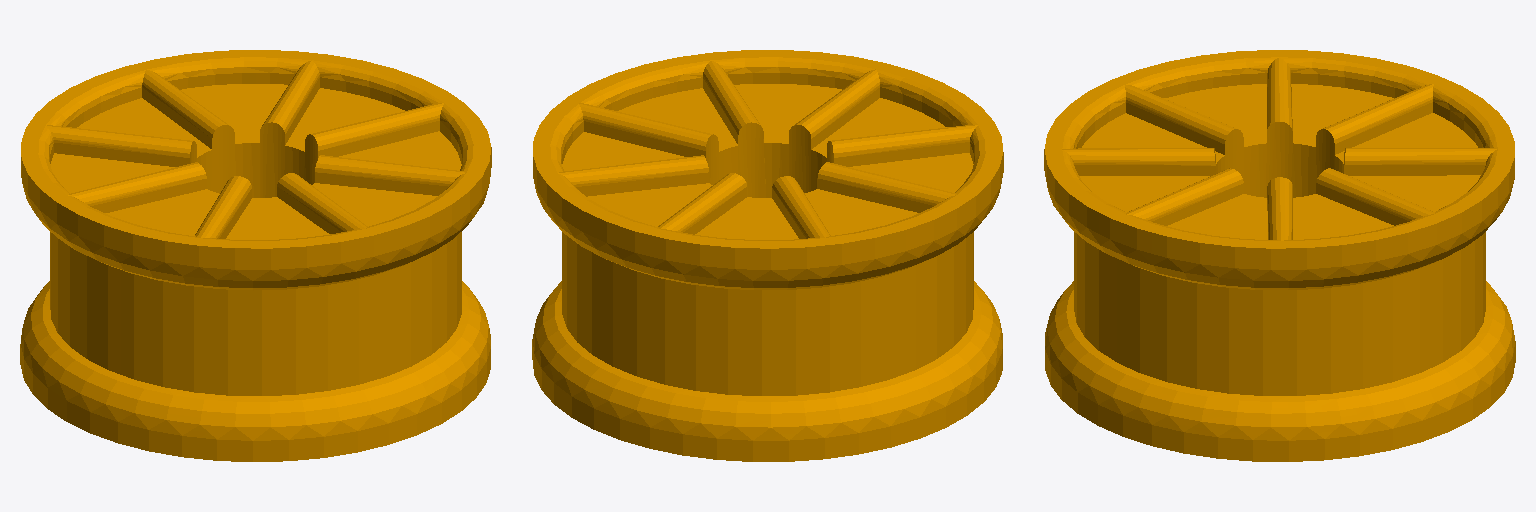
robot.urdf — 00863_plug:
<?xml version="1.0"?>
<robot name="00863_plug">
	<link name="00863_plug">
		<visual>
			<geometry>
				<mesh filename="../mesh/00863/asset_plug.obj"/>
			</geometry>
		</visual>
		<collision>
			<geometry>
				<mesh filename="../mesh/00863/asset_plug.obj"/>
			</geometry>
			<sdf resolution="256"/>
		</collision>
	</link>
</robot>

--- Render facts (derived) ---
The picture shows the robot from 3 angles, left to right: view 1: azimuth 30°, elevation 25°; view 2: azimuth 150°, elevation 25°; view 3: azimuth 270°, elevation 25°; orthographic projection.
Model 00863_plug with 1 links and 0 joints (none), rooted at 00863_plug, posed every joint at zero.
Links seen in each view (by area): view 1: 00863_plug; view 2: 00863_plug; view 3: 00863_plug.
Boxes of the visible links, x1=… form: 00863_plug: x1=20, y1=50, x2=491, y2=461; 00863_plug: x1=532, y1=50, x2=1003, y2=461; 00863_plug: x1=1044, y1=50, x2=1515, y2=461.
Size in the robot's own frame: 0.0335 by 0.0335 by 0.0168 metres.
1 mesh visuals loaded from 1 distinct referenced files (1 OBJ).
